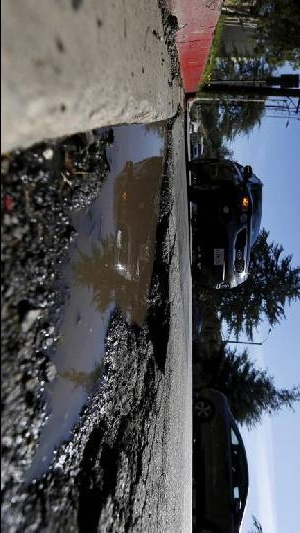pothole: (1, 111, 177, 530)
